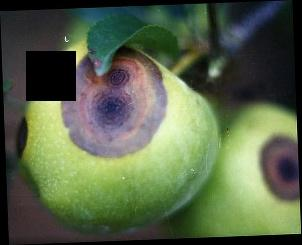rotten apple: (13, 40, 216, 234), (179, 104, 299, 237)
